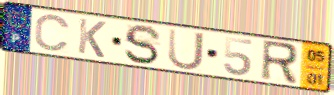5: (222, 35, 254, 77)
C: (33, 13, 73, 53)
K: (75, 16, 108, 59)
R: (259, 38, 300, 87)
S: (123, 23, 164, 67)
U: (167, 26, 206, 72)
